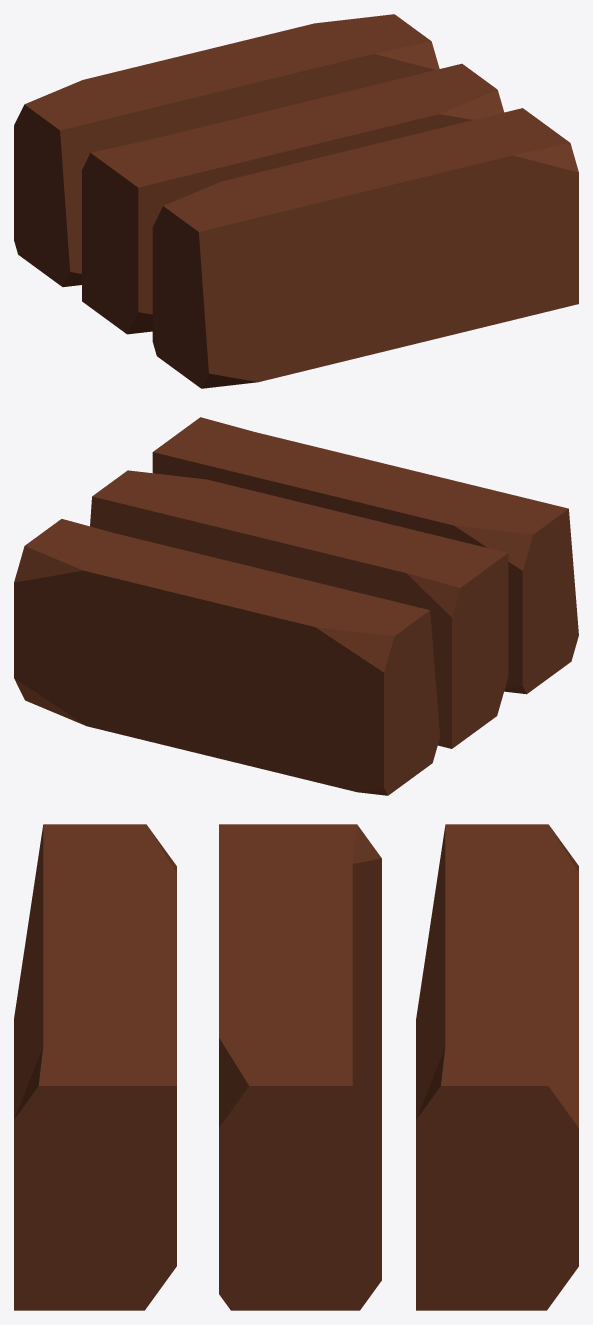
The model's file is Brücke.fbx.
3 views of the same model, one above another, from view 1: azimuth 30°, elevation 25°; view 2: azimuth 150°, elevation 25°; view 3: azimuth 270°, elevation 25° (orthographic). The views are drawn at different scales.
Parts seen in each view (by area): view 1: Brücke.001; view 2: Brücke.001; view 3: Brücke.001.
Part boxes in pixels (box(x1,y1,x2,y2)): Brücke.001: box(14, 14, 578, 388); Brücke.001: box(14, 417, 578, 795); Brücke.001: box(14, 824, 578, 1310).
Size of the model in its own units: 100 by 40 by 91.26.
